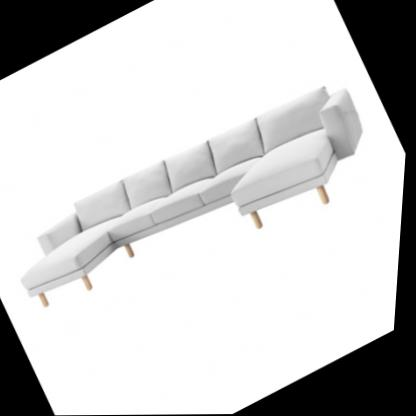Sofa: (0, 60, 399, 352)
